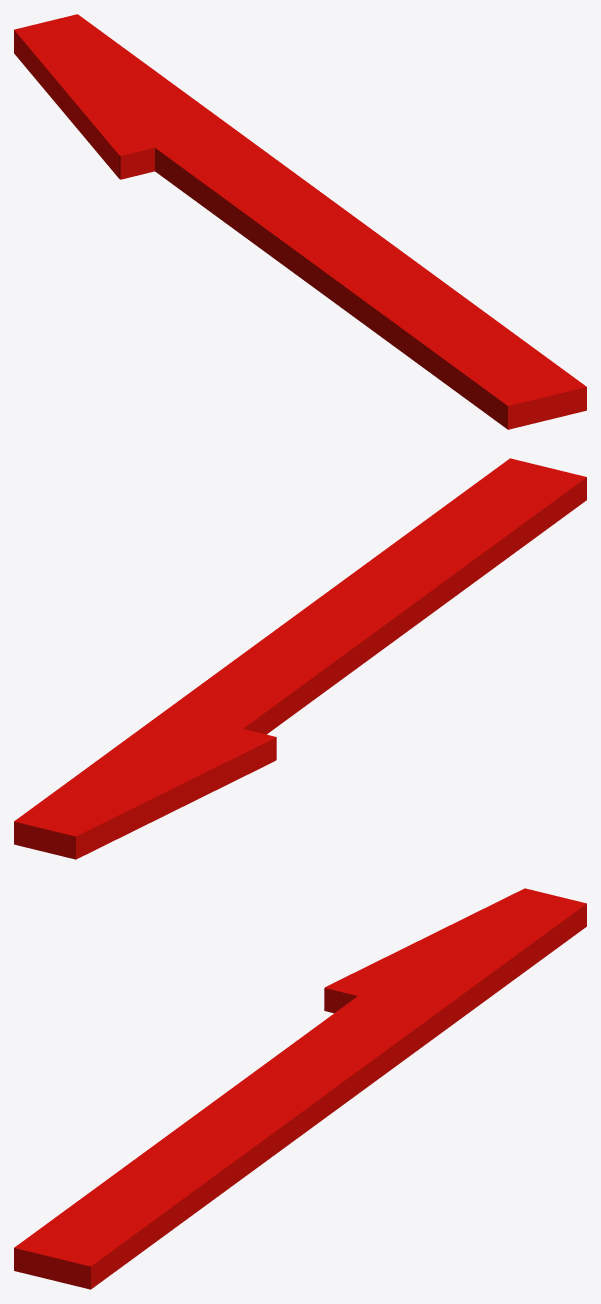
Rendered from NumberOne.fbx.
The picture shows the model from 3 angles, top to bottom: view 1: azimuth 30°, elevation 25°; view 2: azimuth 150°, elevation 25°; view 3: azimuth 330°, elevation 25°; orthographic projection. The views are drawn at different scales.
Visible parts, largest first — view 1: NumberOne; view 2: NumberOne; view 3: NumberOne.
Part boxes in pixels (box(x1,y1,x2,y2)): NumberOne: box(14, 14, 586, 429); NumberOne: box(14, 458, 586, 859); NumberOne: box(14, 888, 586, 1289).
Size of the model in its own units: 44.47 by 8.88 by 346.
